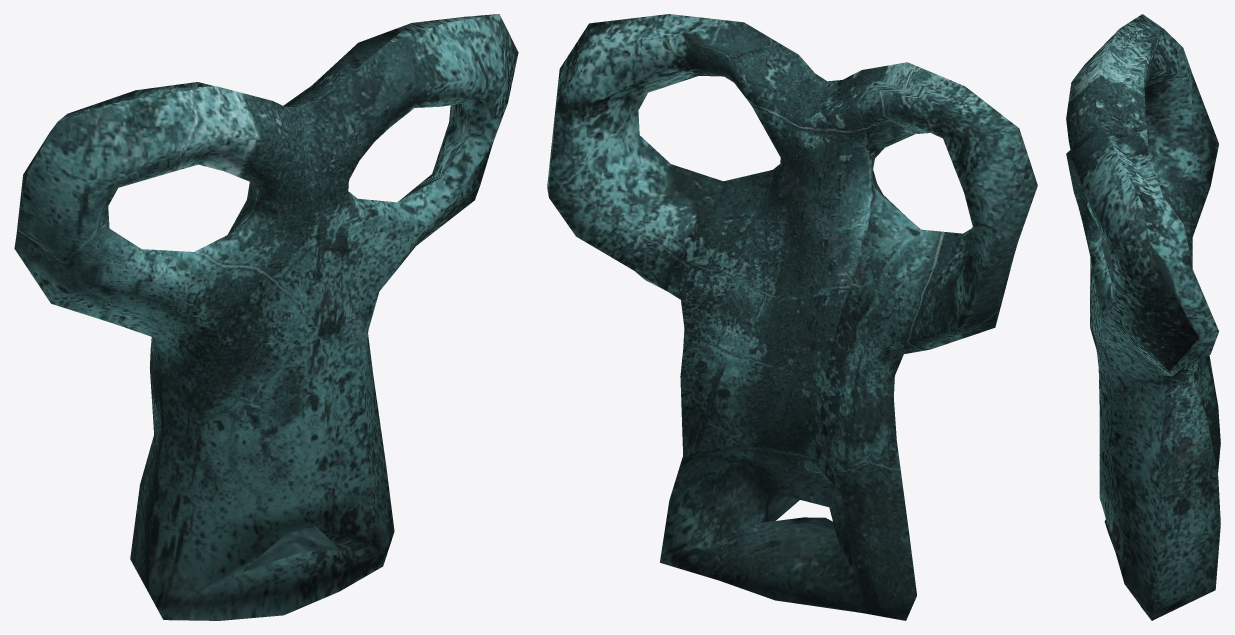
Rendered from Ritual_Maskl.fbx.
The picture shows the model from 3 angles, left to right: view 1: azimuth 30°, elevation 25°; view 2: azimuth 150°, elevation 25°; view 3: azimuth 270°, elevation 25°; orthographic projection. The views are drawn at different scales.
Parts seen in each view (by area): view 1: Suzanne; view 2: Suzanne; view 3: Suzanne.
Boxes of the visible parts, <box> form: Suzanne: <box>14,14,518,620</box>; Suzanne: <box>547,14,1037,620</box>; Suzanne: <box>1066,14,1220,620</box>.
Bounding box in the file's own units: 151 × 165 × 46.87.
